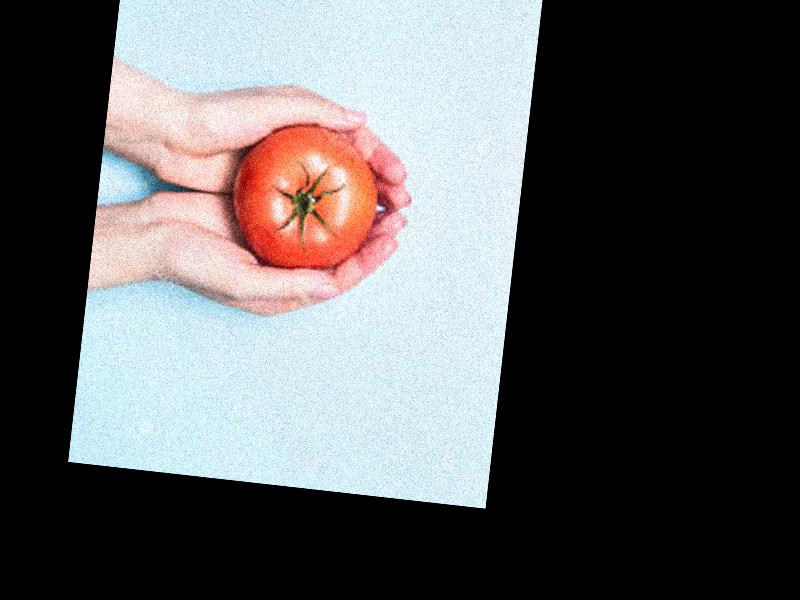Tomato: (226, 117, 384, 280)
